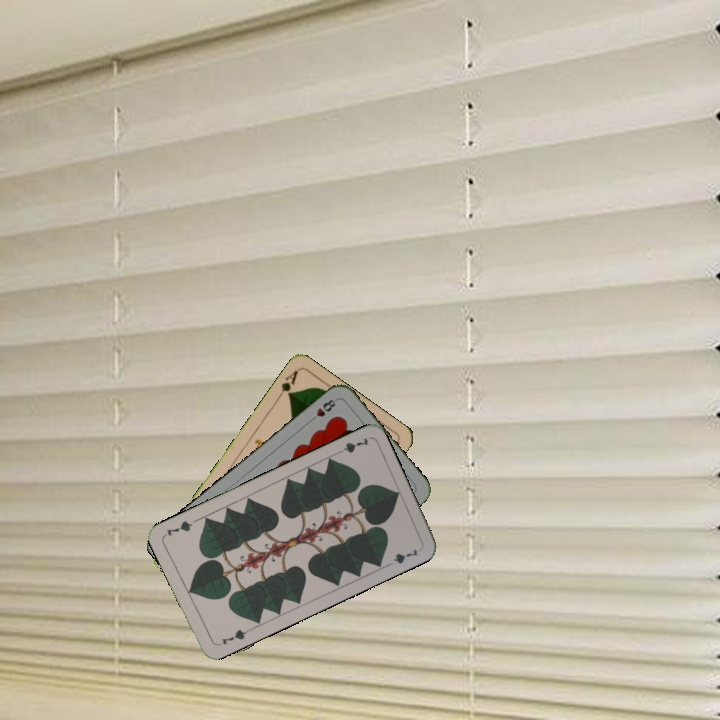G7: (332, 434, 372, 457), (217, 625, 252, 647)
GA: (272, 366, 300, 403)
H8: (305, 395, 340, 425)
